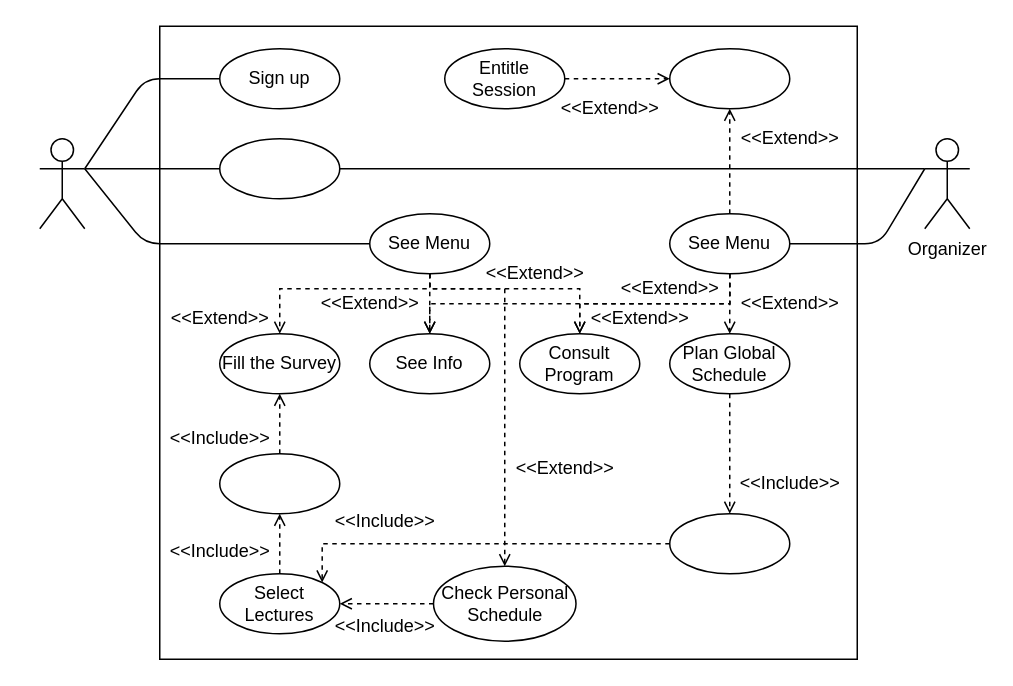
Image size: 1013x686. Some labels were removed from this diagram. The centre of each missing label's shape, as x and y in pixels:
"Attendee" belongs at point (61, 183).
"Check Preferences" belongs at point (729, 543).
"Create Session" belongs at point (729, 78).
"Display Ranking" belongs at point (279, 483).
"Sign in" belongs at point (279, 168).
